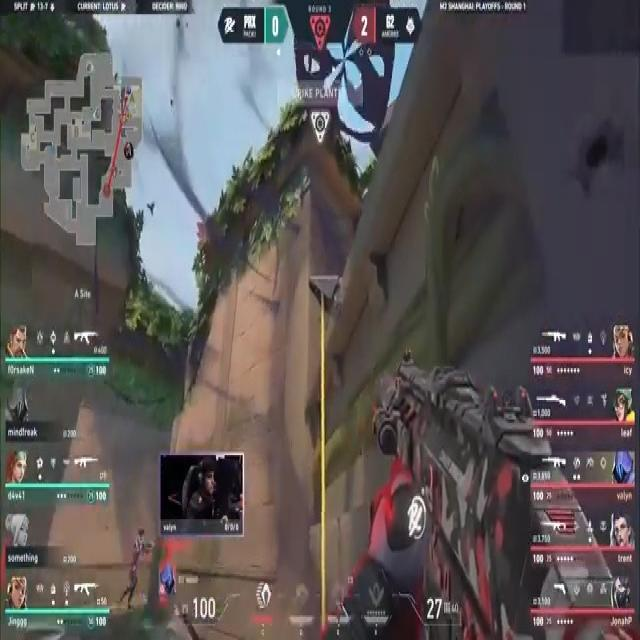enemy: (121, 520, 154, 608)
